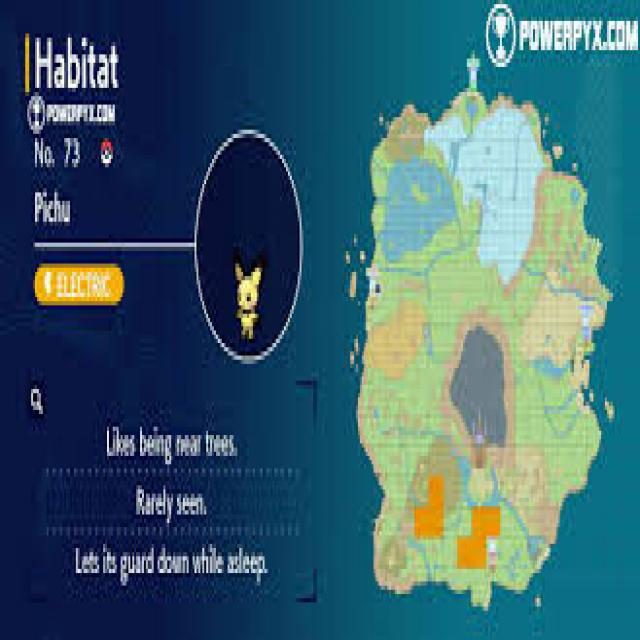pichu: (234, 244, 267, 351)
